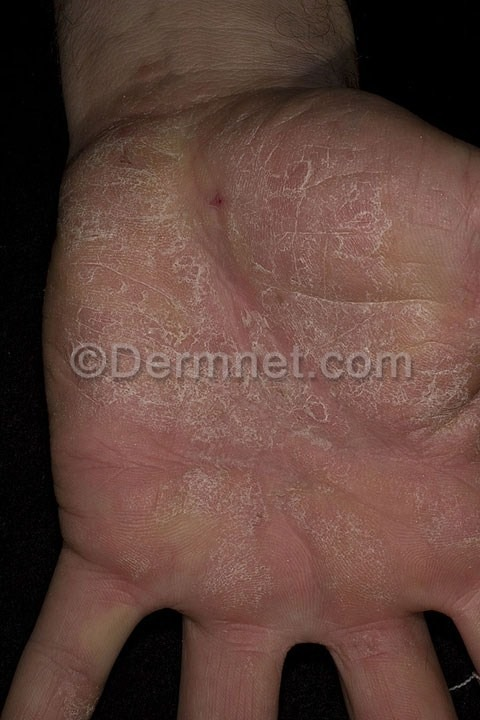Psoriasis: (59, 73, 470, 563)
